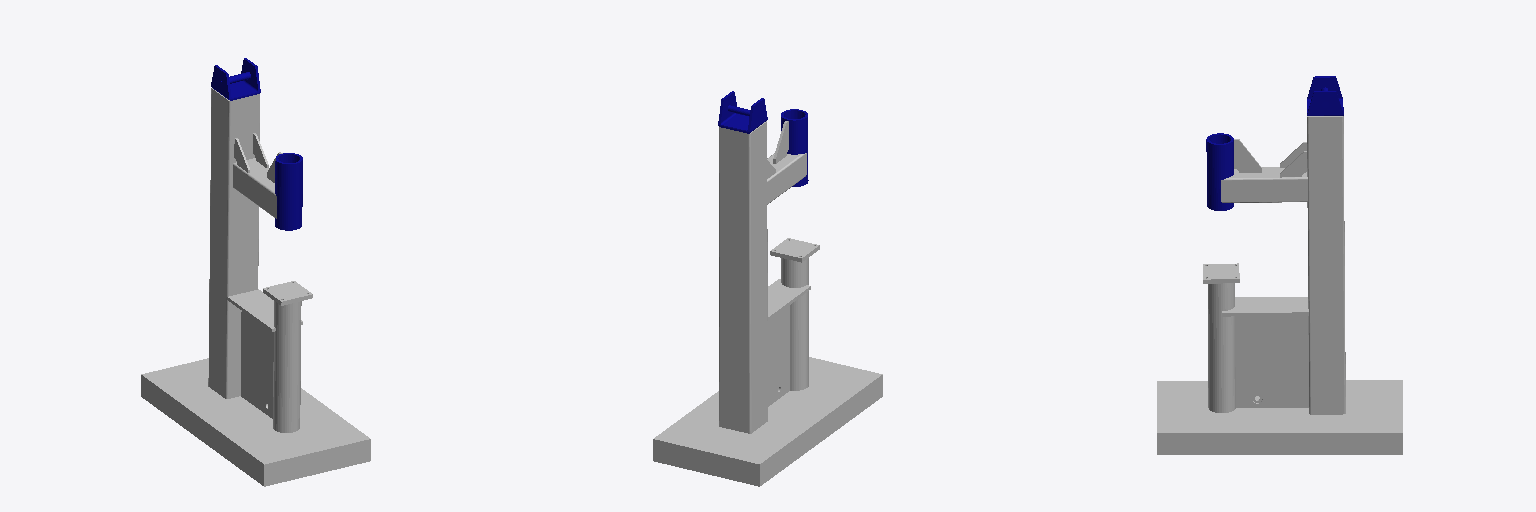
The model's file is corpus.obj.
3 renders of one model, left to right at view 1: azimuth 30°, elevation 25°; view 2: azimuth 150°, elevation 25°; view 3: azimuth 270°, elevation 25°, orthographic.
Visible parts, largest first — view 1: Assem1_-_Top_plate-1, Assem1_-_Tool_connection_plate-1; view 2: Assem1_-_Top_plate-1, Assem1_-_Tool_connection_plate-1; view 3: Assem1_-_Top_plate-1, Assem1_-_Tool_connection_plate-1.
Part boxes in pixels (x1,y1,x2,y2): Assem1_-_Top_plate-1: (141,58,370,486); Assem1_-_Tool_connection_plate-1: (263,281,312,305); Assem1_-_Top_plate-1: (653,91,882,486); Assem1_-_Tool_connection_plate-1: (770,238,819,262); Assem1_-_Top_plate-1: (1157,76,1402,454); Assem1_-_Tool_connection_plate-1: (1203,263,1239,283).
Bounding box in the file's own units: 15.55 × 48.22 × 31.06.